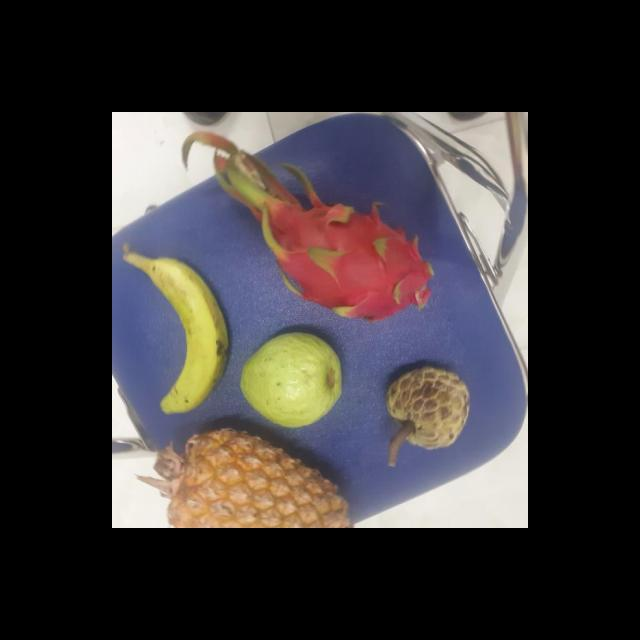Sakya fruit: (386, 366, 474, 450)
banana: (140, 254, 232, 416)
guava: (238, 330, 345, 434)
pineapple: (170, 423, 359, 528)
pitaya: (262, 194, 440, 324)
